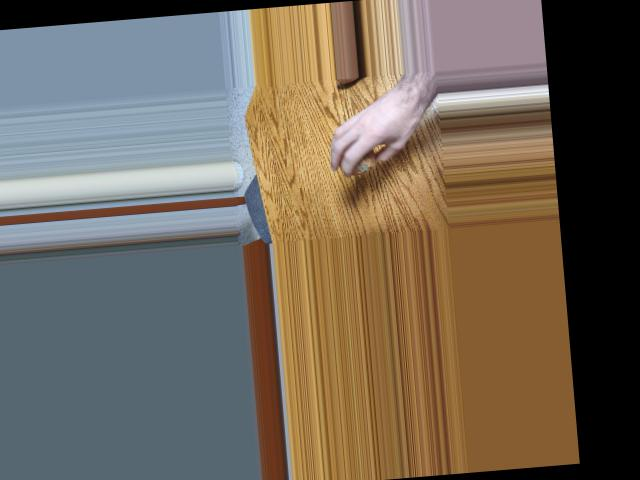onion: (336, 143, 378, 175)
